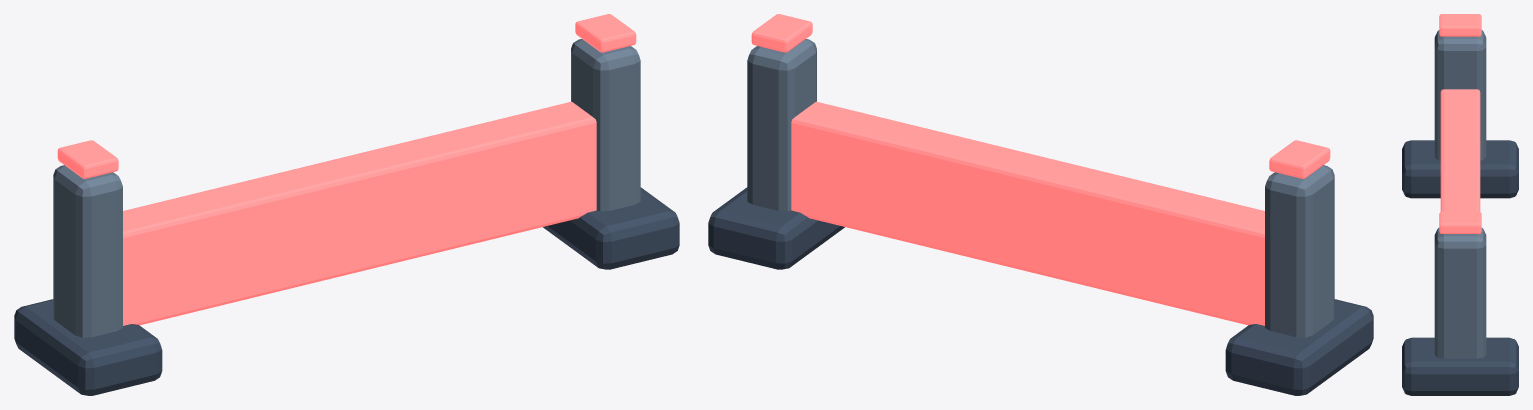
The model's file is EnergyBarrier.fbx.
The picture shows the model from 3 angles, left to right: view 1: azimuth 30°, elevation 25°; view 2: azimuth 150°, elevation 25°; view 3: azimuth 270°, elevation 25°; orthographic projection. The views are drawn at different scales.
Visible parts, largest first — view 1: Repulsor energy sheet, Energy emitter, Energy emitter.001, Emitter plinth, Emitter plinth.001, Emitter glow, Emitter glow.001; view 2: Repulsor energy sheet, Energy emitter, Energy emitter.001, Emitter plinth, Emitter plinth.001, Emitter glow, Emitter glow.001; view 3: Energy emitter.001, Emitter plinth.001, Repulsor energy sheet, Emitter plinth, Energy emitter, Emitter glow, Emitter glow.001.
Boxes of the visible parts, x1=… form: Repulsor energy sheet: x1=123, y1=101, x2=596, y2=325; Energy emitter: x1=53, y1=165, x2=122, y2=337; Energy emitter.001: x1=571, y1=39, x2=640, y2=211; Emitter plinth: x1=14, y1=299, x2=162, y2=395; Emitter plinth.001: x1=543, y1=187, x2=679, y2=269; Emitter glow: x1=57, y1=140, x2=118, y2=178; Emitter glow.001: x1=575, y1=14, x2=636, y2=52; Repulsor energy sheet: x1=791, y1=101, x2=1264, y2=325; Energy emitter: x1=1265, y1=165, x2=1334, y2=337; Energy emitter.001: x1=747, y1=39, x2=816, y2=211; Emitter plinth: x1=1225, y1=299, x2=1373, y2=395; Emitter plinth.001: x1=708, y1=187, x2=844, y2=269; Emitter glow: x1=1269, y1=140, x2=1330, y2=178; Emitter glow.001: x1=751, y1=14, x2=812, y2=52; Energy emitter.001: x1=1434, y1=228, x2=1486, y2=358; Emitter plinth.001: x1=1402, y1=337, x2=1518, y2=395; Repulsor energy sheet: x1=1440, y1=89, x2=1480, y2=211; Emitter plinth: x1=1402, y1=140, x2=1518, y2=198; Energy emitter: x1=1434, y1=30, x2=1486, y2=160; Emitter glow: x1=1439, y1=14, x2=1481, y2=36; Emitter glow.001: x1=1439, y1=211, x2=1481, y2=233.
Size of the model in its own units: 116 by 39.25 by 25.
